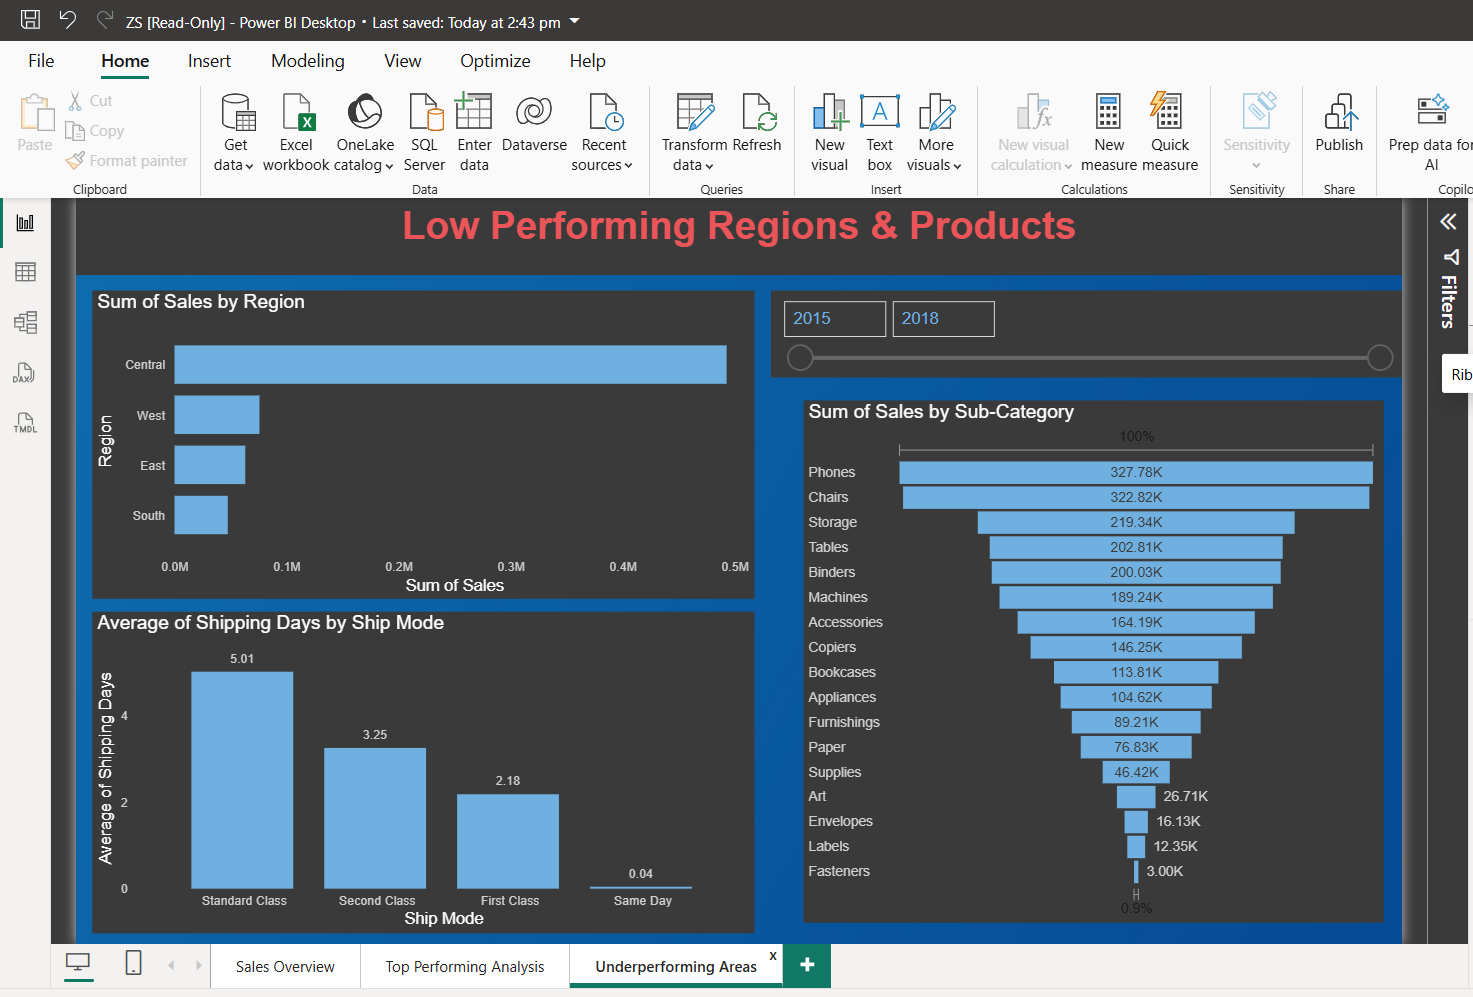

Layout of this report page (visuals, bound fields, positions):
{"tool":"powerbi","page":{"name":"Underperforming Areas","canvas":[1280,720],"ordinal":2},"visuals":[{"type":"slicer","title":"Year","fields":{"Values":["sales_data.Order Date.Variation.Date Hierarchy.Year"]},"box":[670.8,89.3,609.3,83.2],"z":0},{"type":"textbox","box":[0,0,1280,74.8],"z":1000},{"type":"funnel","fields":{"Y":["sales_data.Sales"],"Category":["sales_data.Sub-Category"]},"box":[702.1,195.4,559.8,504.3],"z":2000},{"type":"clusteredBarChart","fields":{"Category":["sales_data.Region"],"Y":["sales_data.Sales"]},"box":[15.7,89.3,639.4,298],"z":3000},{"type":"columnChart","fields":{"Category":["sales_data.Ship Mode"],"Y":["sales_data.Shipping Days"]},"box":[15.7,399.3,639.4,310.1],"z":4000}]}

Visuals, with their boxes on the page's 1280x720 design canvas (x1, y1, x2, y2). These are canvas units, not pixel positions in the 1473x997 screenshot, which may show the page scaled, cropped or inside an application window:
"Year" slicer: l=671, t=89, r=1280, b=172
textbox: l=0, t=0, r=1280, b=75
funnel - sales_data.Sales x sales_data.Sub-Category: l=702, t=195, r=1262, b=700
clusteredBarChart - sales_data.Region x sales_data.Sales: l=16, t=89, r=655, b=387
columnChart - sales_data.Ship Mode x sales_data.Shipping Days: l=16, t=399, r=655, b=709
